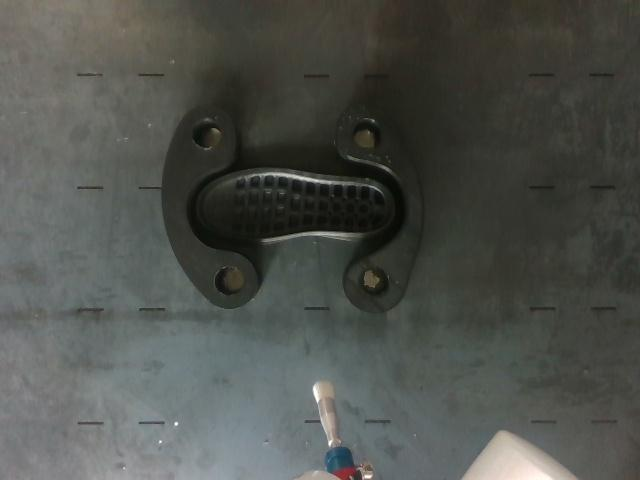shoes: (198, 171, 392, 238)
